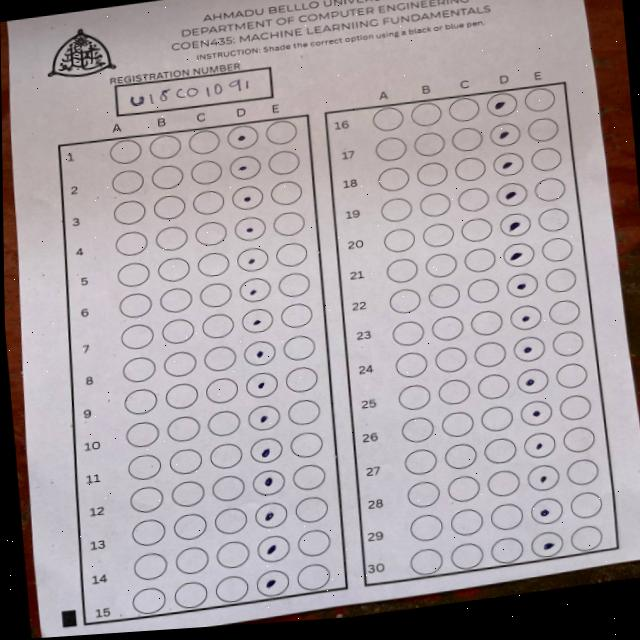bubble: (517, 395, 555, 428), (521, 428, 558, 460), (525, 461, 561, 492), (236, 274, 273, 304), (483, 89, 521, 118), (515, 365, 549, 397), (251, 467, 286, 498), (243, 336, 278, 367), (247, 402, 283, 432), (504, 270, 540, 300), (507, 302, 543, 332), (225, 122, 260, 152), (256, 533, 291, 563), (255, 568, 290, 598), (239, 306, 275, 335), (245, 369, 278, 400), (249, 435, 283, 465), (529, 496, 563, 526), (487, 119, 522, 148), (228, 152, 262, 181), (253, 500, 287, 529), (529, 530, 563, 559), (501, 240, 535, 269), (234, 214, 267, 243), (496, 179, 529, 208), (512, 334, 546, 362), (235, 245, 268, 273), (231, 183, 263, 211), (492, 150, 524, 178), (499, 210, 531, 238)
